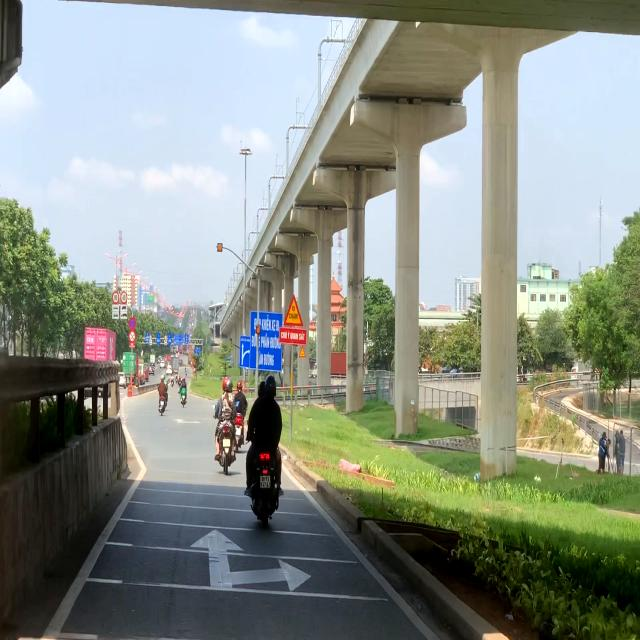P.127: (112, 291, 119, 303), (121, 292, 127, 304)
P.130: (129, 317, 136, 330)
W.245a: (283, 294, 304, 327)
